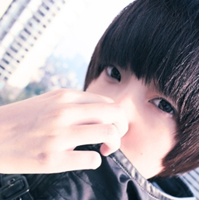face: (79, 56, 177, 187)
